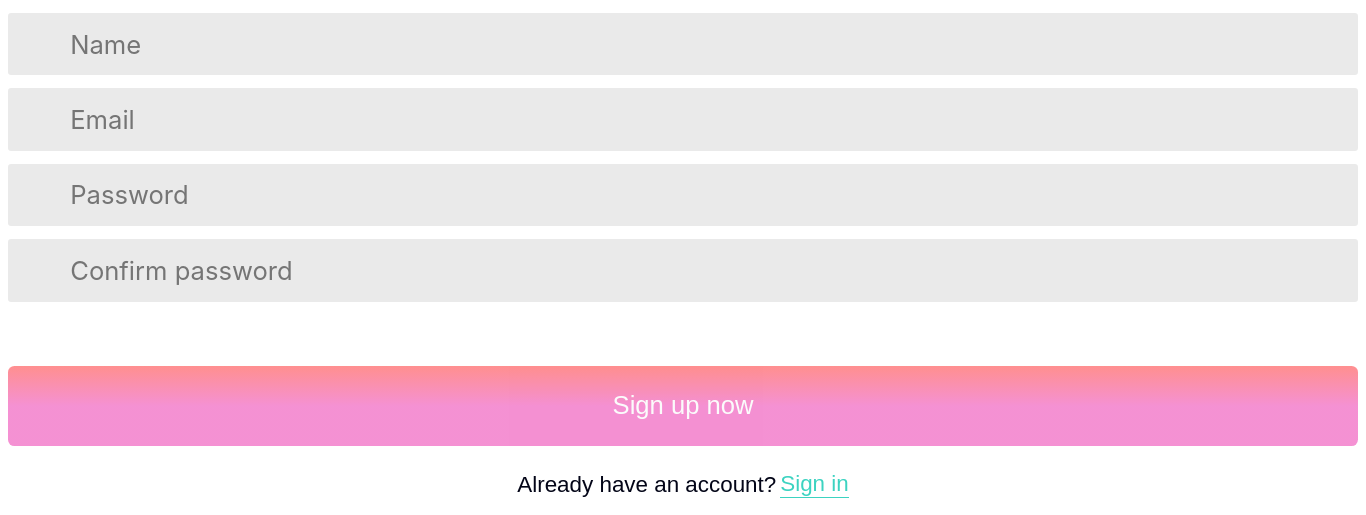
Component: FormSignUp › should enable submit button when user fill in the form correctly
The image size is (1366, 515).
Expected: the button "Sign up now" is disabled, [8, 366, 1358, 446]
Type "Jonathan Doe" into the field with placeholder "Name".
click(700, 44); type("Jonathan Doe")  # box [57, 16, 1342, 72]
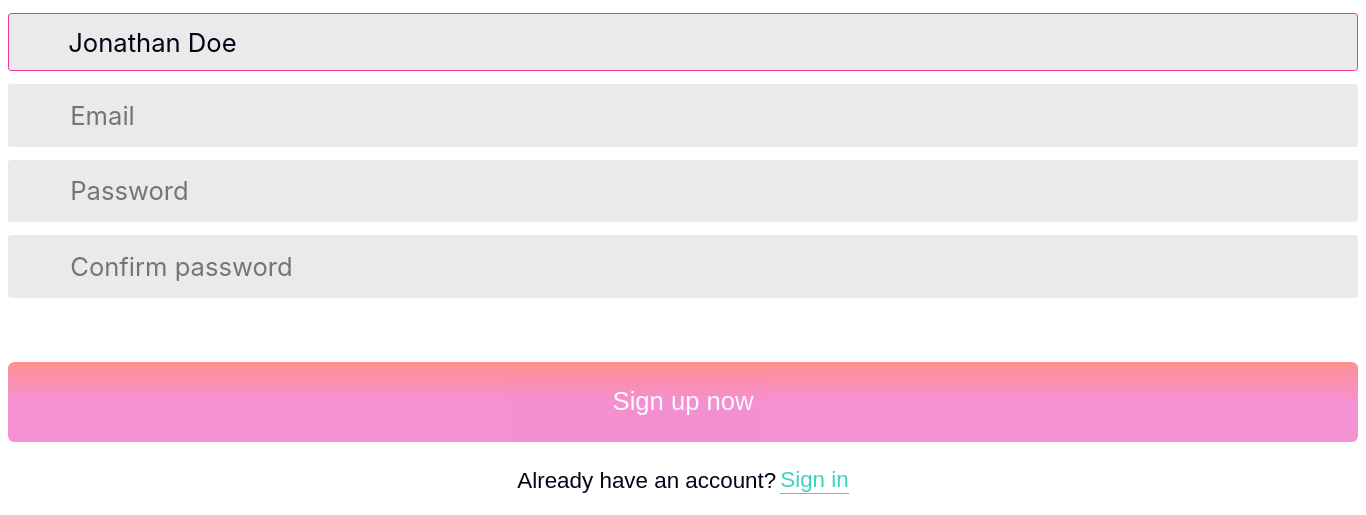
Type "example.email@example.com" into the field with placeholder "Email".
click(700, 116); type("example.email@example.com")  # box [57, 87, 1342, 144]
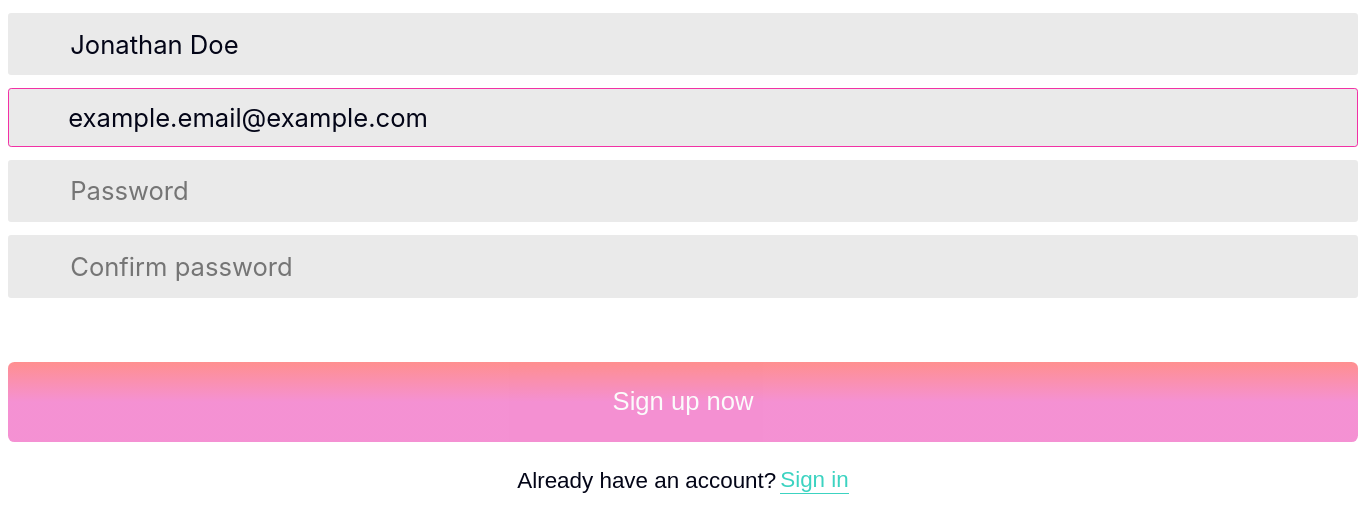
Type "good-password" into the password field with placeholder "Password".
click(700, 191); type("good-password")  # box [57, 163, 1342, 219]
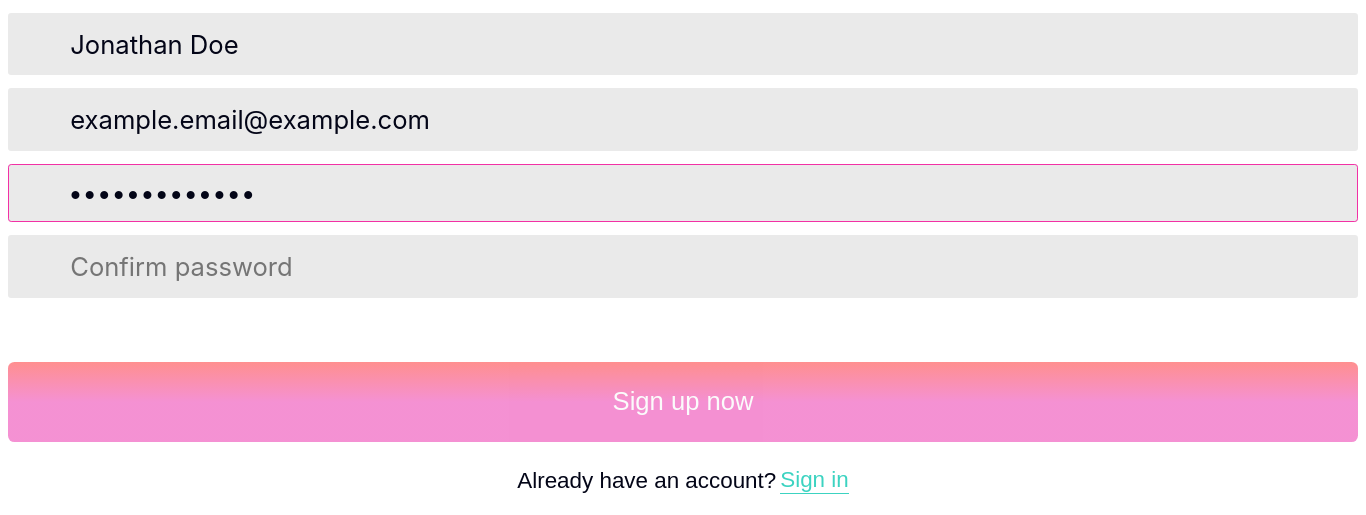
Type "good-password" into the password field with placeholder "Confirm password".
click(700, 266); type("good-password")  # box [57, 238, 1342, 295]
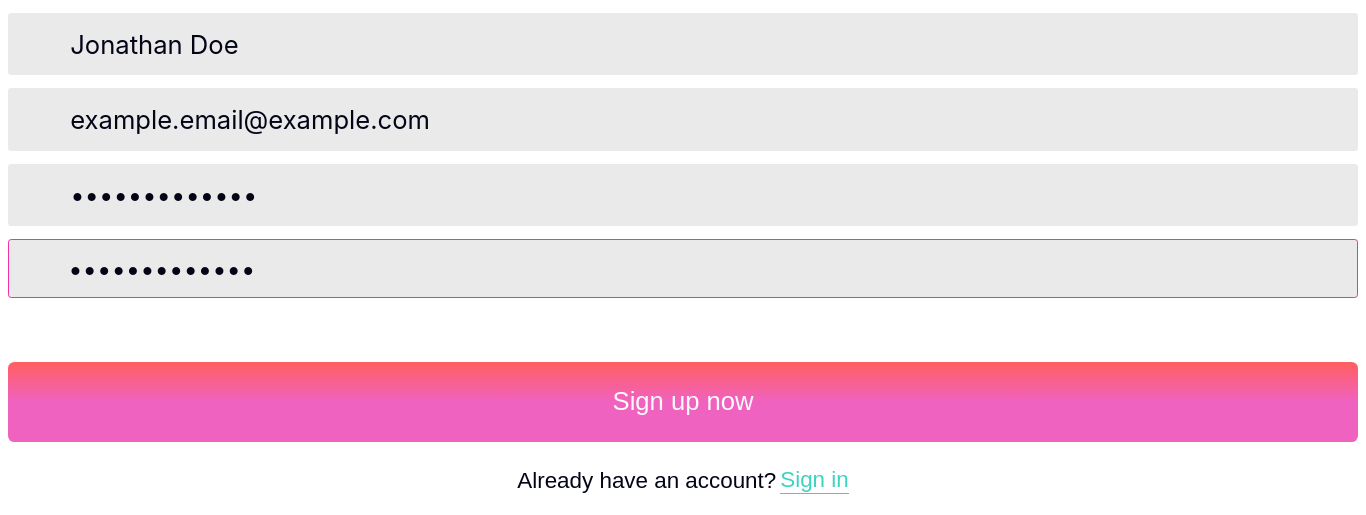
Result: the button "Sign up now" is enabled at [8, 362, 1358, 442]
